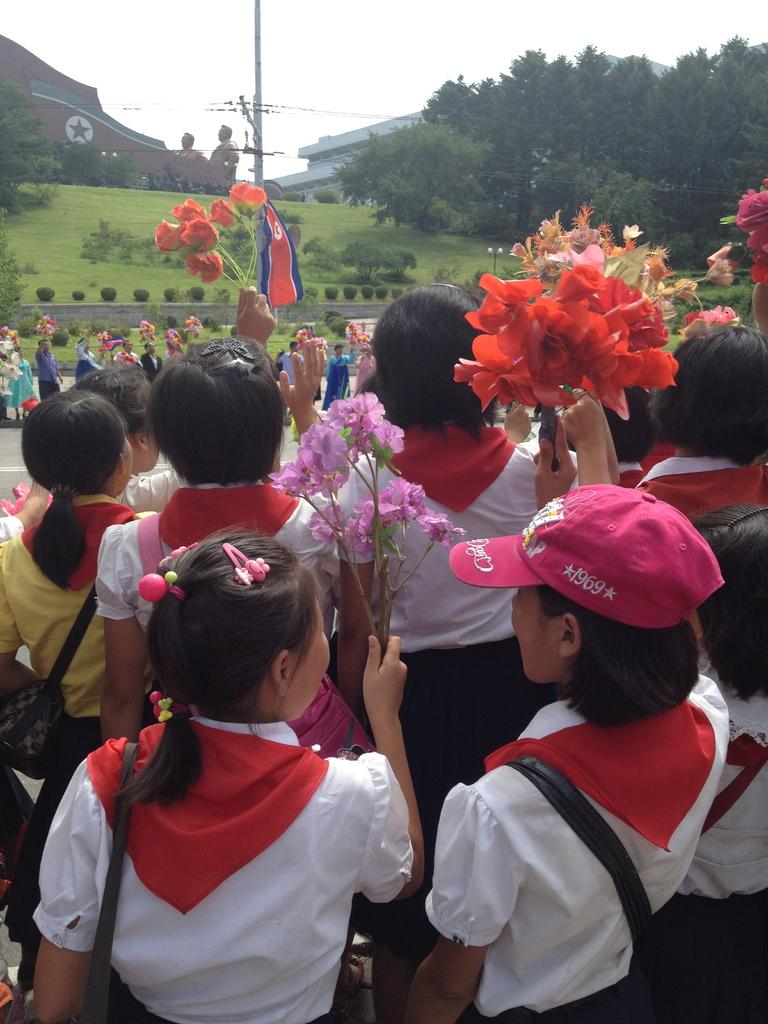Hat: (450, 481, 722, 628)
